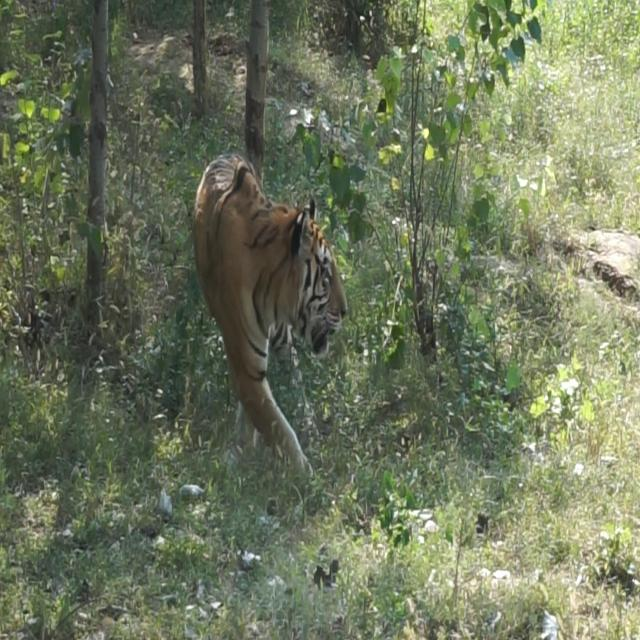Tiger: (182, 138, 382, 509)
